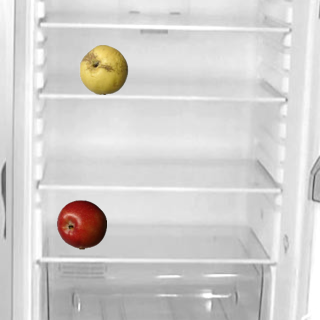Apple Braeburn: (56, 199, 106, 249)
Apple Golden 1: (78, 44, 128, 94)
